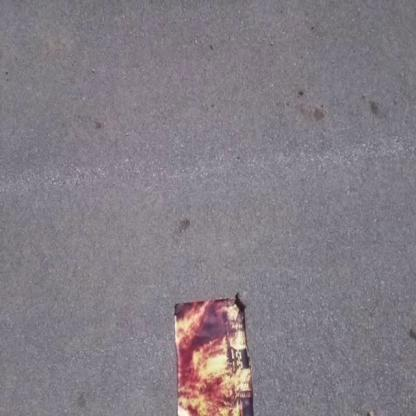fire-poster: (171, 293, 254, 415)
